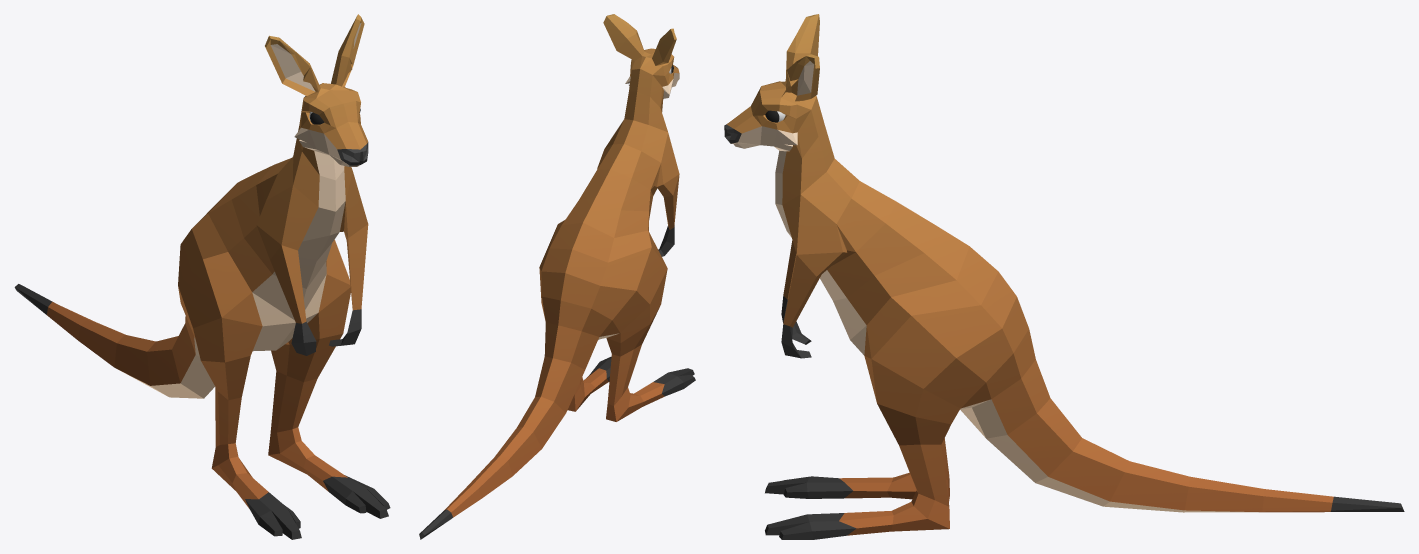
File: kangaroo.glb
3 renders of one model, left to right at view 1: azimuth 30°, elevation 25°; view 2: azimuth 150°, elevation 25°; view 3: azimuth 270°, elevation 25°, orthographic. The views are drawn at different scales.
Parts seen in each view (by area): view 1: kangaroo; view 2: kangaroo; view 3: kangaroo.
Boxes of the visible parts, x1,y1,x2,y2 form: kangaroo: (14,14,390,539); kangaroo: (419,14,695,539); kangaroo: (724,14,1404,539).
Size of what is drawn, in the model's own units: 51.99 by 178 by 230.
1 material, 1 textured.
